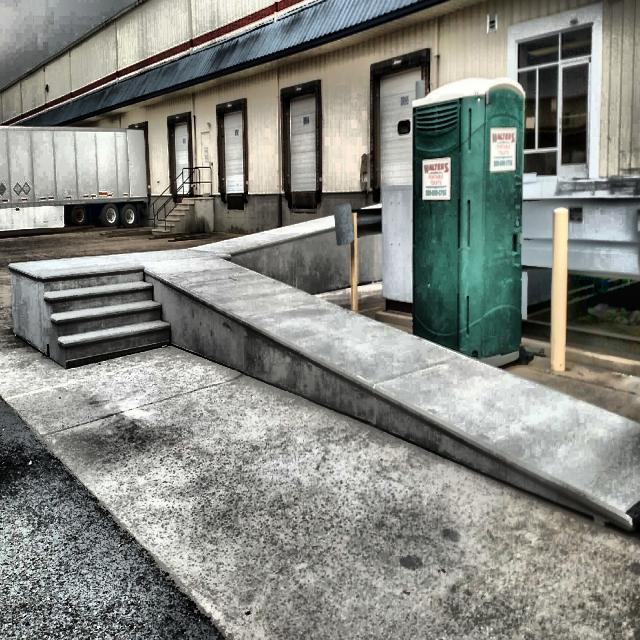escada: (10, 264, 172, 369)
